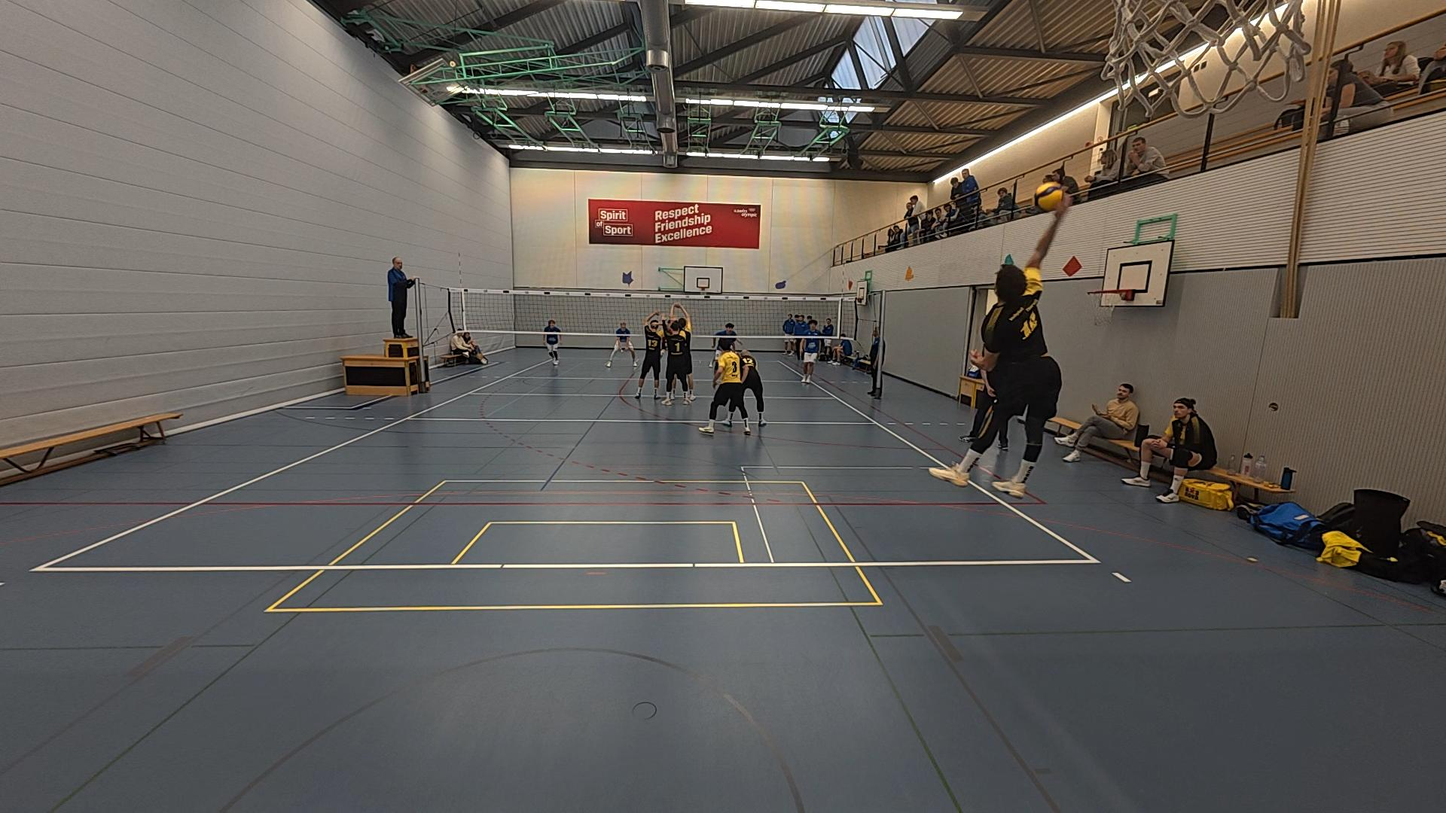battuta: (931, 200, 1075, 500)
